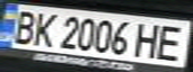0: (93, 17, 115, 54), (75, 15, 96, 52)
2: (54, 12, 81, 51)
6: (112, 18, 136, 56)
B: (6, 8, 42, 45)
E: (151, 23, 190, 62)
H: (130, 20, 166, 60)
K: (27, 10, 60, 47)
